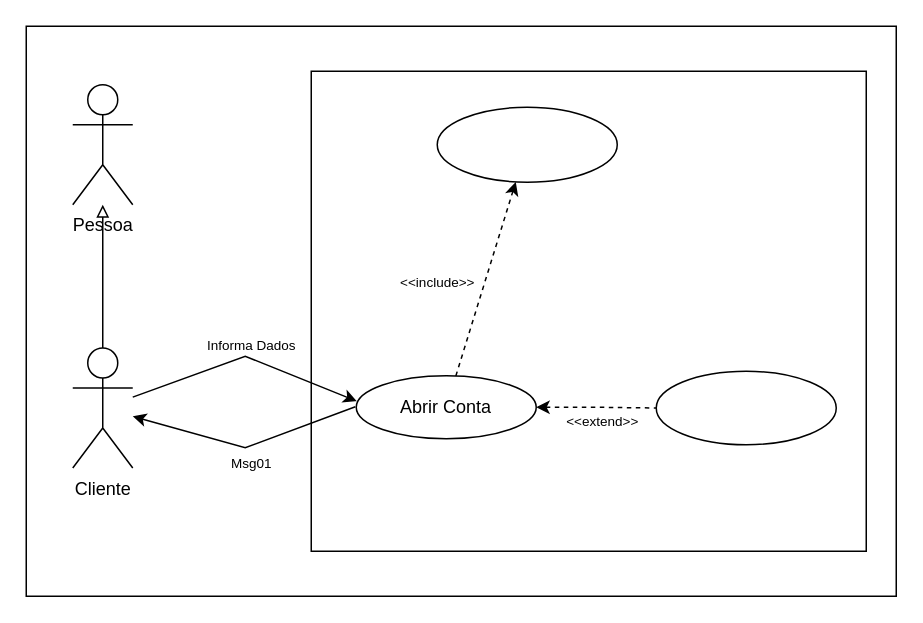
The diagram is 923 pixels wide and 623 high, and some of its shapes have lost their labels. The box of each missing label's shape, as (x1, y1, x2, y2) in pixels:
Pesquisar CPF/CNPJ: (436, 106, 617, 182)
Realizar Depósito: (655, 370, 836, 445)
